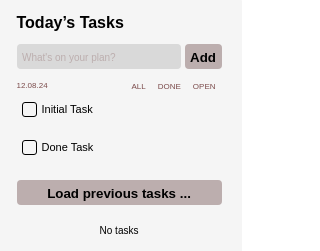
Test: Filter Tasks by Status › filters tasks based on completion status
The image size is (320, 251).
Expected: the checkbox "Initial Task" is shown, [42,103,93,115]
Check the checkbox labelled "Done Task" at (68, 147), box [42,141,94,153]
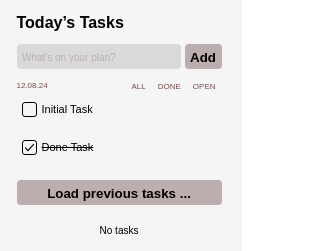
Click the "DONE" filter button
Click the button "DONE" at (170, 87), box [152,81,187,92]
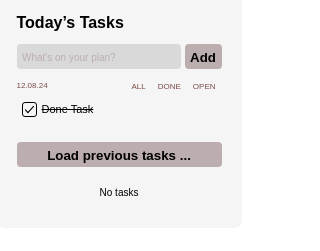
Expected: the checkbox "Done Task" is shown, [42,103,93,115]
Expected: the checkbox "Initial Task" is gone
